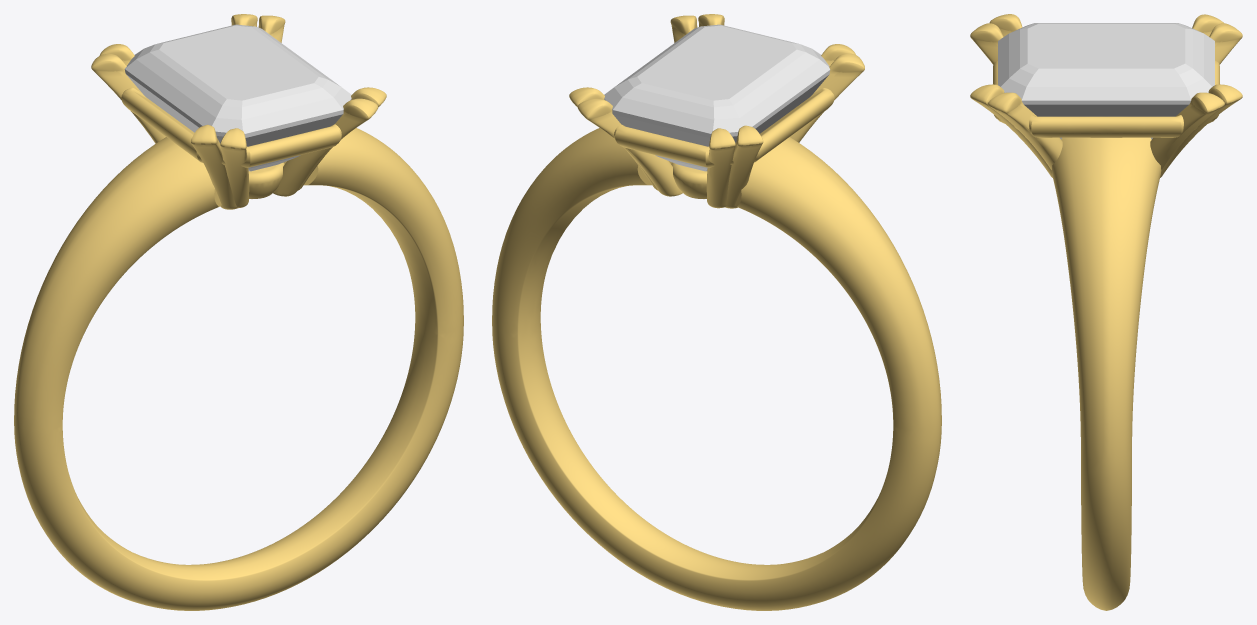
File: CamEmEng_blender.glb
3 renders of one model, left to right at view 1: azimuth 30°, elevation 25°; view 2: azimuth 150°, elevation 25°; view 3: azimuth 270°, elevation 25°, orthographic.
Visible parts, largest first — view 1: v2 Cam YG for 3d model, Cam em dia for 3d model; view 2: v2 Cam YG for 3d model, Cam em dia for 3d model; view 3: v2 Cam YG for 3d model, Cam em dia for 3d model.
Boxes of the visible parts, <box> form: v2 Cam YG for 3d model: <box>14,14,463,610</box>; Cam em dia for 3d model: <box>124,24,351,171</box>; v2 Cam YG for 3d model: <box>492,14,941,610</box>; Cam em dia for 3d model: <box>604,24,830,171</box>; v2 Cam YG for 3d model: <box>970,14,1242,610</box>; Cam em dia for 3d model: <box>998,23,1214,139</box>.
Size of the model in its own units: 20.1 by 23.35 by 10.67.
